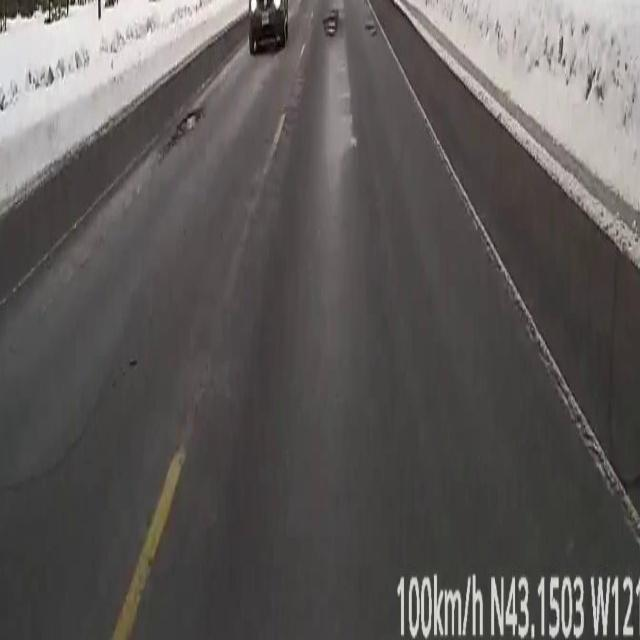pothole: (163, 109, 203, 160), (324, 16, 336, 36), (366, 22, 377, 36)
